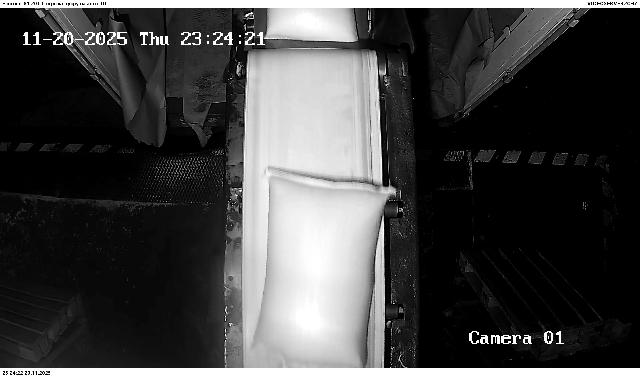bag: (249, 167, 397, 368), (263, 8, 359, 43)
